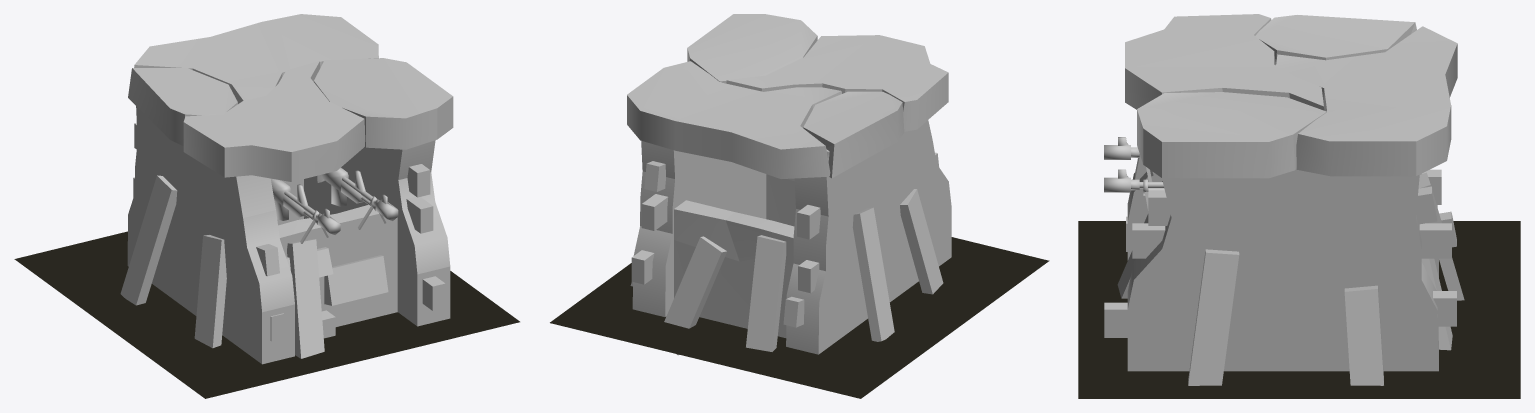
Rendered from Fortress_08.FBX.
The picture shows the model from 3 angles, left to right: view 1: azimuth 30°, elevation 25°; view 2: azimuth 150°, elevation 25°; view 3: azimuth 270°, elevation 25°; orthographic projection. The views are drawn at different scales.
Visible parts, largest first — view 1: Box245, Plane055; view 2: Box245, Plane055; view 3: Box245, Plane055.
Boxes of the visible parts, box(x1,y1,x2,y2) form: Box245: box(120, 14, 453, 364); Plane055: box(14, 231, 519, 398); Box245: box(627, 14, 951, 355); Plane055: box(550, 237, 1049, 398); Box245: box(1104, 14, 1464, 385); Plane055: box(1078, 221, 1520, 398).
Bounding box in the file's own units: 440 × 315 × 462.
